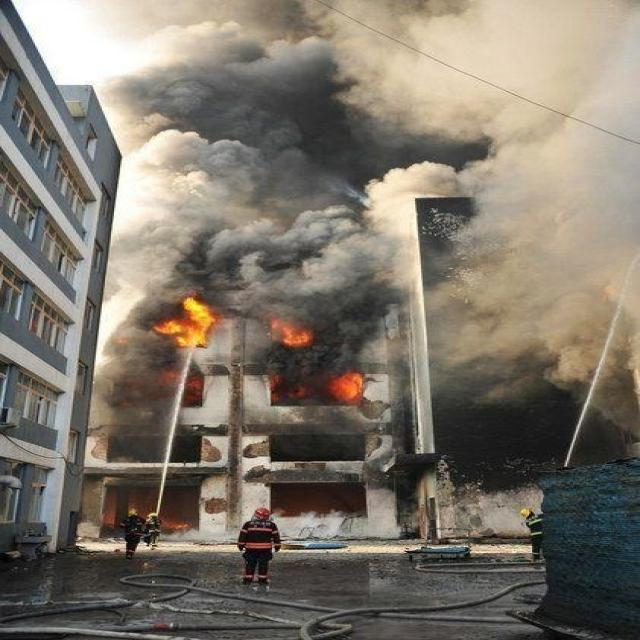Fire: (150, 296, 216, 348), (268, 318, 314, 348), (327, 372, 365, 404)
Smoke: (91, 1, 640, 459), (272, 506, 420, 538), (158, 527, 242, 542)
